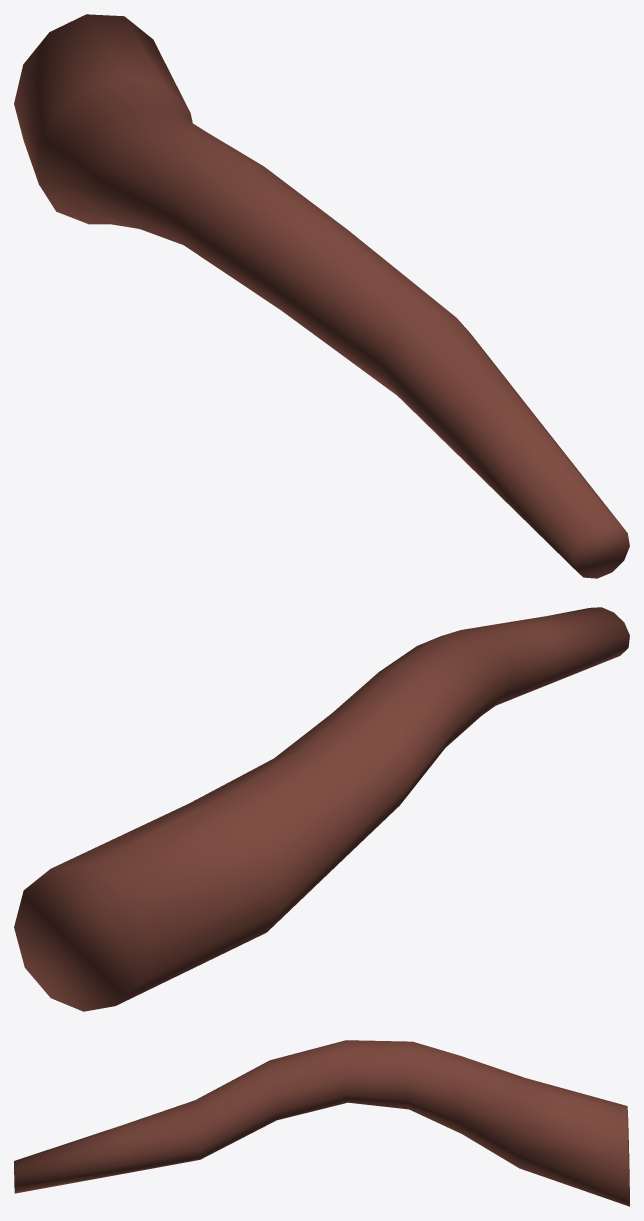
The model's file is SM_Trunk_2.1.fbx.
3 renders of one model, top to bottom at view 1: azimuth 30°, elevation 25°; view 2: azimuth 150°, elevation 25°; view 3: azimuth 270°, elevation 25°, orthographic. The views are drawn at different scales.
Parts seen in each view (by area): view 1: SM_Trunk_2.1; view 2: SM_Trunk_2.1; view 3: SM_Trunk_2.1.
Part boxes in pixels (left/top/right/bottom): SM_Trunk_2.1: left=14, top=14, right=629, bottom=578; SM_Trunk_2.1: left=14, top=607, right=629, bottom=1011; SM_Trunk_2.1: left=14, top=1040, right=629, bottom=1206.
Size of the model in its own units: 149 by 126 by 560.
